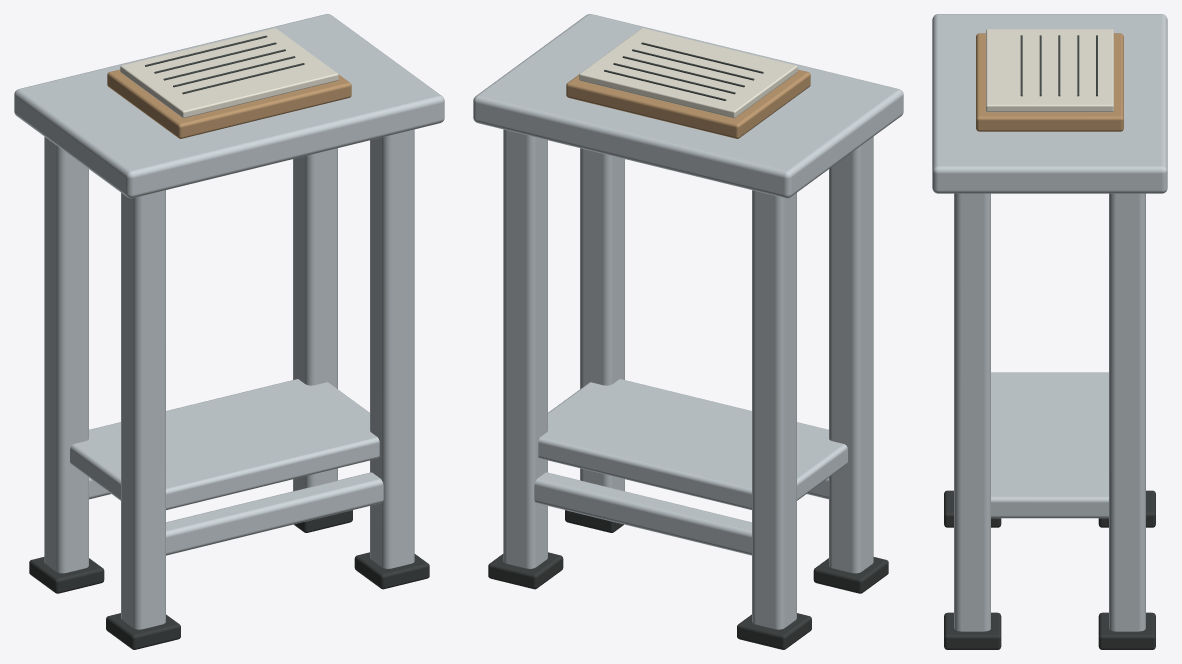
Rendered from beekeeping-and-honey-farm-inspection-notebook-stand-046f733b__30721.glb.
3 renders of one model, left to right at view 1: azimuth 30°, elevation 25°; view 2: azimuth 150°, elevation 25°; view 3: azimuth 270°, elevation 25°, orthographic.
Visible parts, largest first — view 1: inspection-notebook-stand; view 2: inspection-notebook-stand; view 3: inspection-notebook-stand.
Boxes of the visible parts, x1,y1,x2,y2 form: inspection-notebook-stand: [14, 14, 444, 649]; inspection-notebook-stand: [473, 14, 903, 649]; inspection-notebook-stand: [932, 14, 1167, 649].
Bounding box in the file's own units: 0.55 × 0.841 × 0.35.
